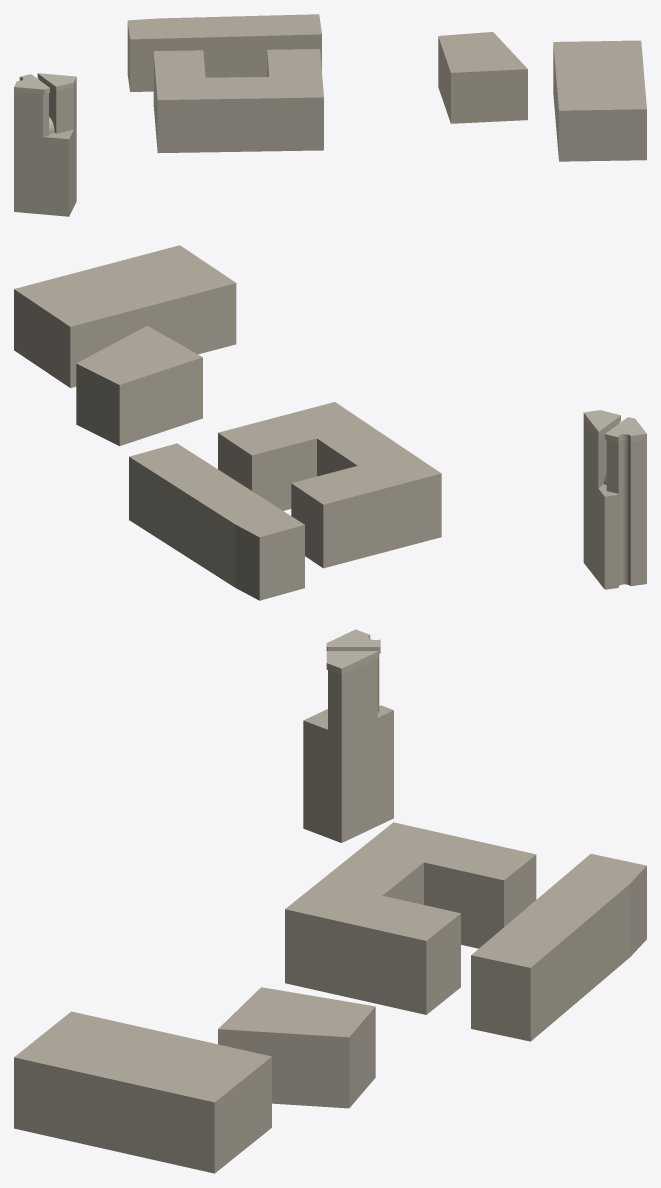
Rendered from kalkara_65_21_mid.glb.
The picture shows the model from 3 angles, top to bottom: view 1: azimuth 30°, elevation 25°; view 2: azimuth 150°, elevation 25°; view 3: azimuth 270°, elevation 25°; orthographic projection. The views are drawn at different scales.
Visible parts, largest first — view 1: geometry_0; view 2: geometry_0; view 3: geometry_0.
Boxes of the visible parts, left/top/right/bottom form: geometry_0: left=14, top=14, right=646, bottom=216; geometry_0: left=14, top=245, right=646, bottom=600; geometry_0: left=14, top=629, right=646, bottom=1173.
Size of the model in its own units: 127 by 26.31 by 86.51.
